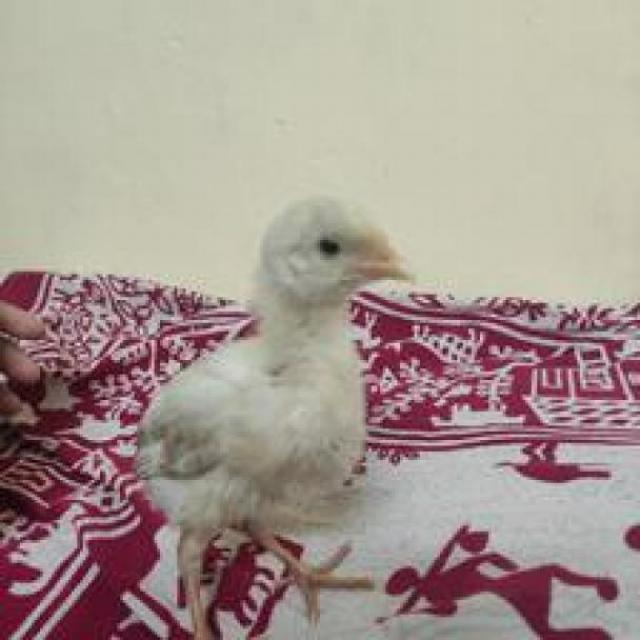Chicken: (145, 176, 421, 640)
